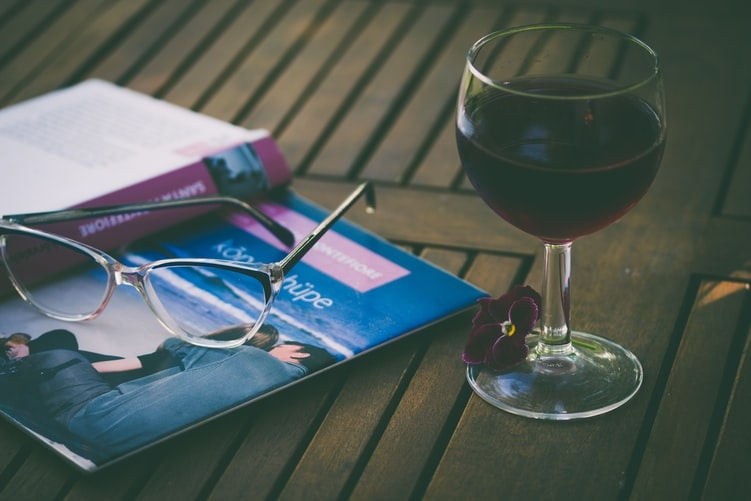whiskey: (453, 27, 664, 420)
